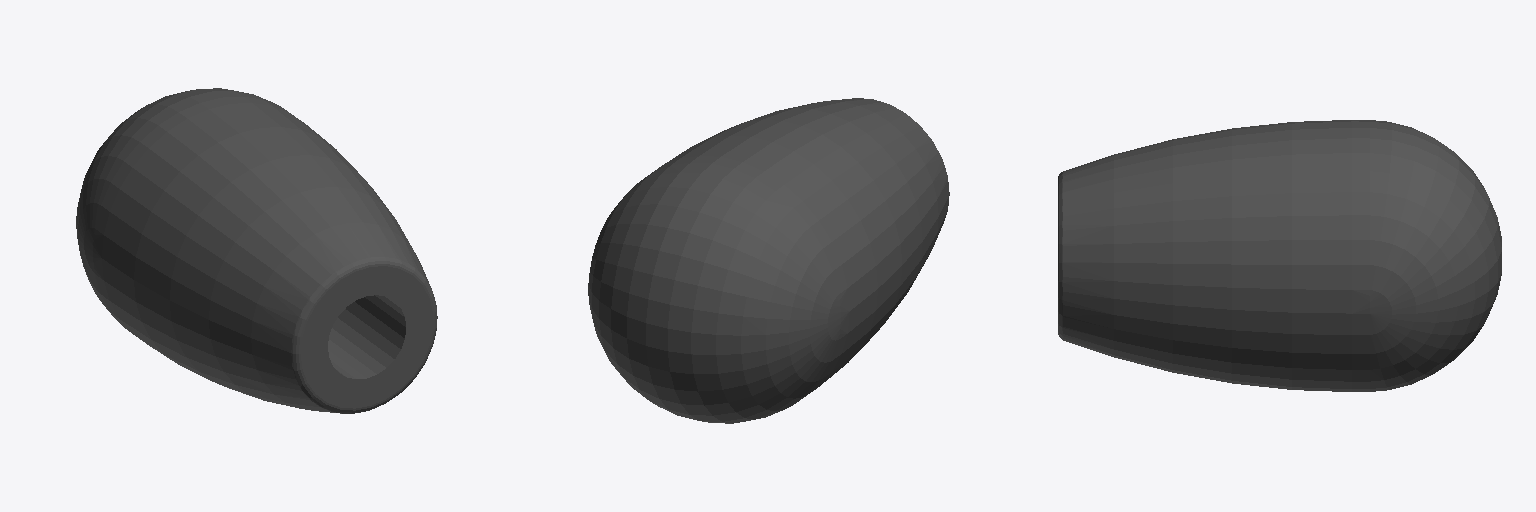
File: ganter_gn_719_1-33-b10.obj
The picture shows the model from 3 angles: view 1: azimuth 30°, elevation 25°; view 2: azimuth 150°, elevation 25°; view 3: azimuth 270°, elevation 25°; orthographic projection.
Parts seen in each view (by area): view 1: ganter_gn_719_1-33-b10_1; view 2: ganter_gn_719_1-33-b10_1; view 3: ganter_gn_719_1-33-b10_1.
Part boxes in pixels (left/top/right/bottom): ganter_gn_719_1-33-b10_1: left=76, top=88, right=437, bottom=413; ganter_gn_719_1-33-b10_1: left=588, top=98, right=949, bottom=423; ganter_gn_719_1-33-b10_1: left=1058, top=120, right=1501, bottom=391.
Bounding box in the file's own units: 33.04 × 32.9 × 53.86.